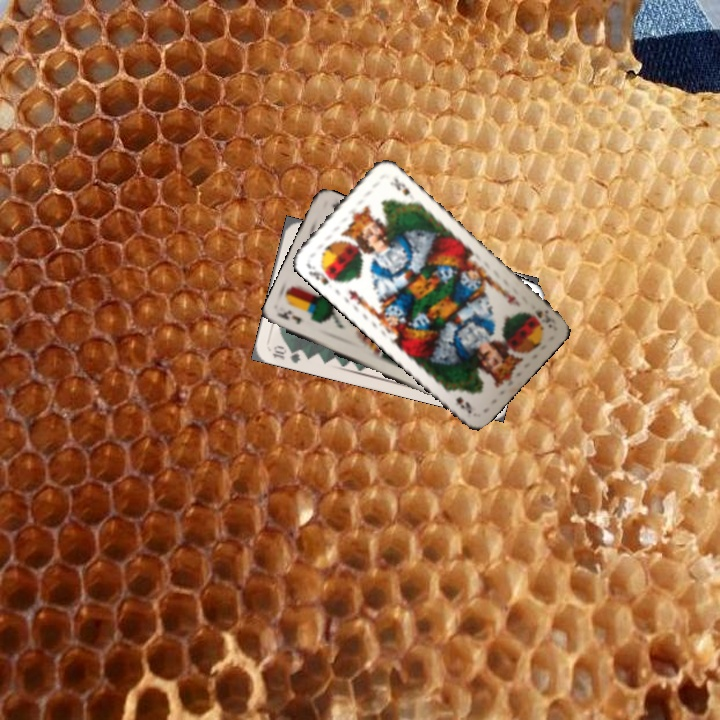EK: (276, 307, 305, 327)
G10: (268, 341, 303, 366)
SK: (302, 259, 340, 287), (530, 306, 557, 330)
